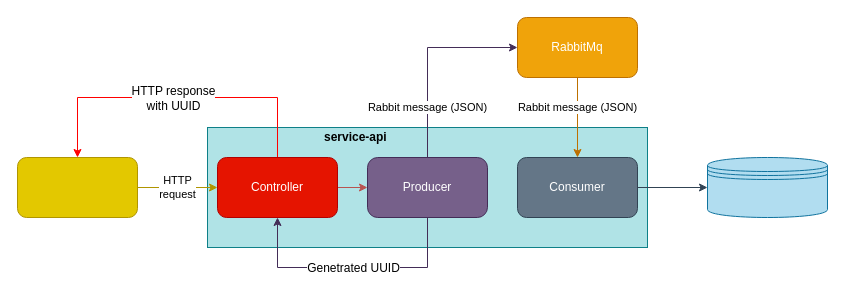
Image size: 845x293. Some labels were removed from this diagram. The shapes that lost their labels are listed below. From the top down, each one's box as (x1, y1, x2, y2) in pixels, then its label:
(16, 156, 138, 218): Client
(706, 156, 828, 218): Database
